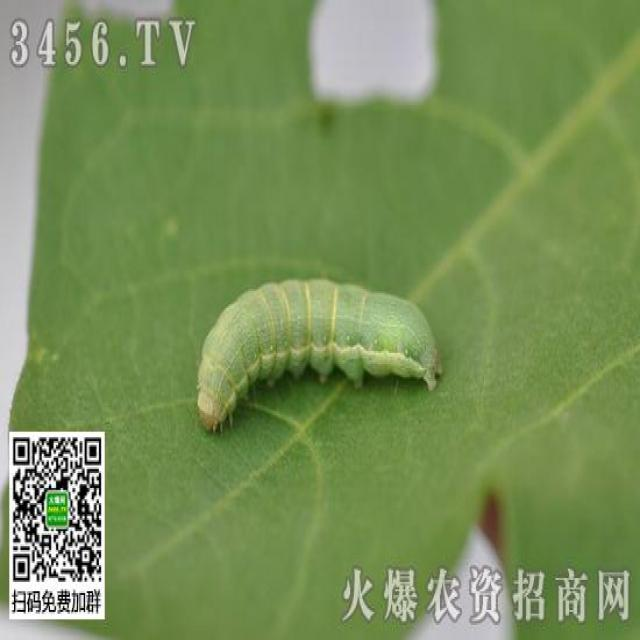BeetArmyWorm-Larva-: (184, 268, 456, 438)
